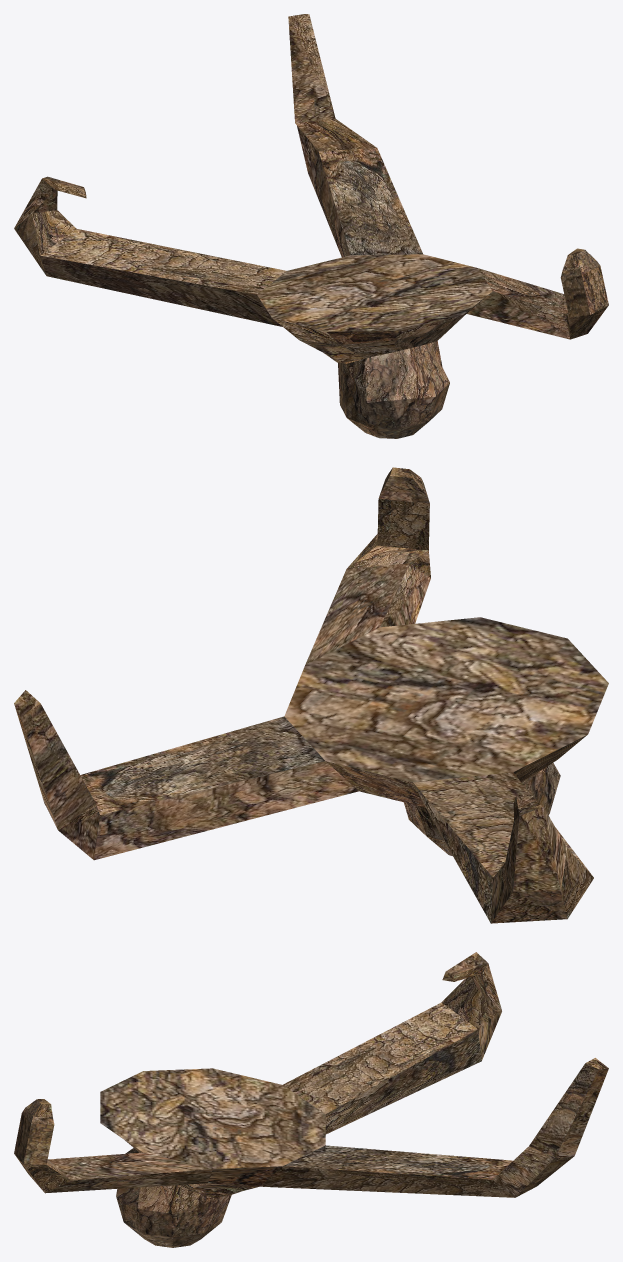
File: hand_v2.glb
The picture shows the model from 3 angles, top to bottom: view 1: azimuth 30°, elevation 25°; view 2: azimuth 150°, elevation 25°; view 3: azimuth 270°, elevation 25°; orthographic projection. The views are drawn at different scales.
Visible parts, largest first — view 1: Cylinder.025; view 2: Cylinder.025; view 3: Cylinder.025.
Part boxes in pixels (x1,y1,x2,y2): Cylinder.025: [14, 14, 608, 438]; Cylinder.025: [14, 467, 608, 923]; Cylinder.025: [14, 952, 608, 1247].
Size of what is drawn, in the model's own units: 5.28 by 3.3 by 7.41.
1 material, 1 textured.
